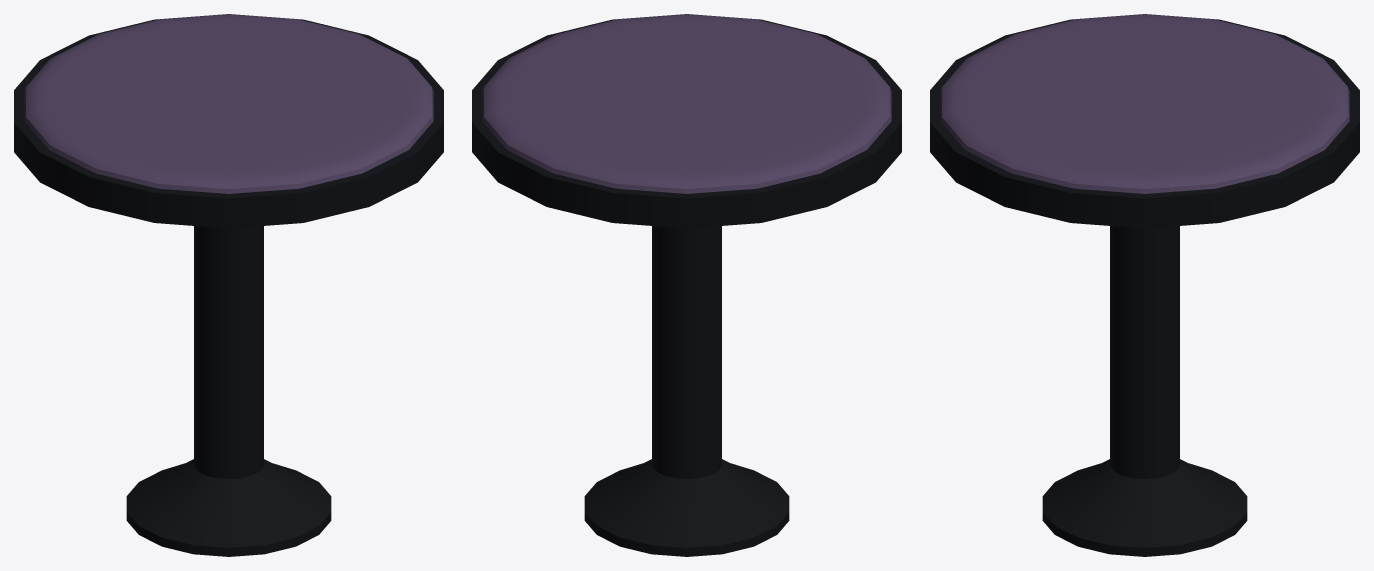
Rendered from Chair_Sci-Fi.fbx.
3 views of the same model, side by side, from view 1: azimuth 30°, elevation 25°; view 2: azimuth 150°, elevation 25°; view 3: azimuth 270°, elevation 25° (orthographic).
Parts seen in each view (by area): view 1: Cylinder001; view 2: Cylinder001; view 3: Cylinder001.
Boxes of the visible parts, <box> form: Cylinder001: <box>14,14,443,556</box>; Cylinder001: <box>472,14,901,556</box>; Cylinder001: <box>930,14,1359,556</box>.
Size of the model in its own units: 0.42 by 0.442 by 0.4136.
